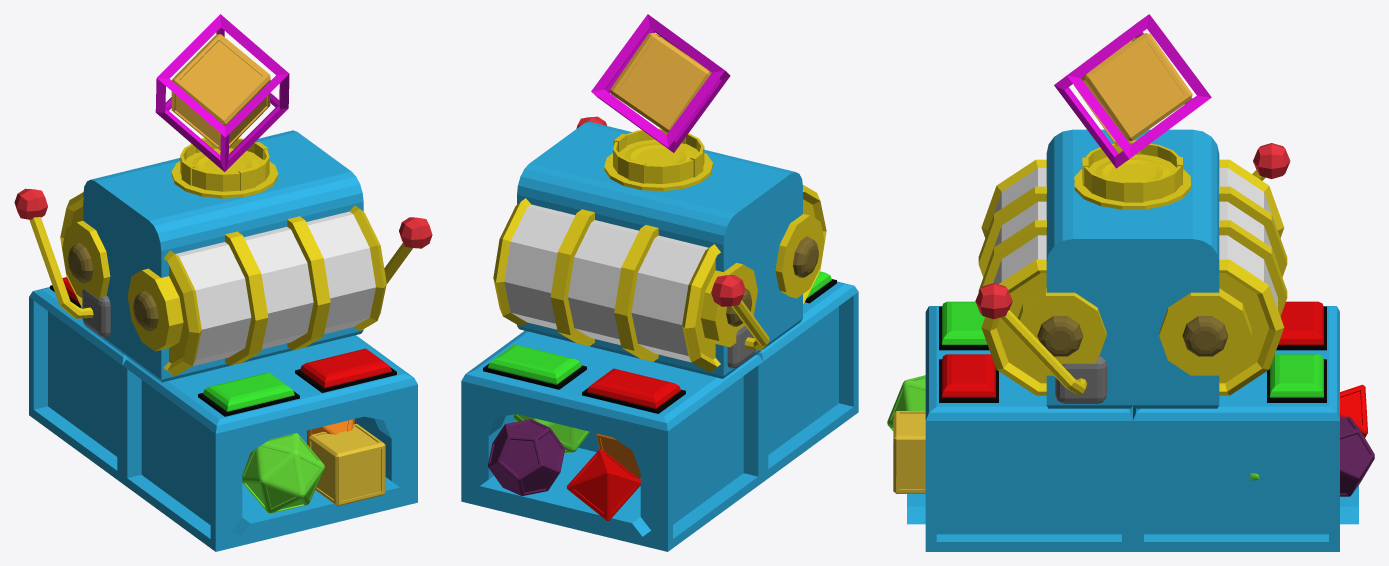
Rendered from MesaEncantamientosv03.fbx.
3 renders of one model, left to right at view 1: azimuth 30°, elevation 25°; view 2: azimuth 150°, elevation 25°; view 3: azimuth 270°, elevation 25°, orthographic. The views are drawn at different scales.
Parts seen in each view (by area): view 1: Limits.004, MesaEncantamientos.002, Cube.003, polySurface2, polySurface4, MesaEncantamientos.001; view 2: Limits.004, MesaEncantamientos.002, MesaEncantamientos.001, Cube.003, polySurface3.001, polySurface1.001, polySurface4.001, polySurface2.001; view 3: Limits.004, MesaEncantamientos.002, MesaEncantamientos.001, Cube.003, polySurface2, polySurface3.001, polySurface4, polySurface1.001.
Boxes of the visible parts, box(x1,y1,x2,y2) form: Limits.004: box(14, 130, 432, 551); MesaEncantamientos.002: box(171, 34, 270, 150); Cube.003: box(155, 14, 289, 171); polySurface2: box(309, 423, 385, 506); polySurface4: box(242, 433, 324, 513); MesaEncantamientos.001: box(171, 137, 278, 198); Limits.004: box(461, 116, 858, 551); MesaEncantamientos.002: box(610, 32, 711, 132); MesaEncantamientos.001: box(604, 128, 712, 191); Cube.003: box(591, 14, 730, 152); polySurface3.001: box(488, 419, 564, 495); polySurface1.001: box(566, 449, 640, 520); polySurface4.001: box(514, 414, 589, 452); polySurface2.001: box(596, 433, 640, 479); Limits.004: box(907, 129, 1358, 551); MesaEncantamientos.002: box(1074, 33, 1192, 146); MesaEncantamientos.001: box(1074, 140, 1190, 209); Cube.003: box(1054, 14, 1211, 168); polySurface2: box(893, 411, 925, 493); polySurface3.001: box(1340, 416, 1374, 496); polySurface4: box(887, 375, 925, 430); polySurface1.001: box(1340, 384, 1367, 437).
Bounding box in the file's own units: 2.14 × 3.1 × 2.82.
